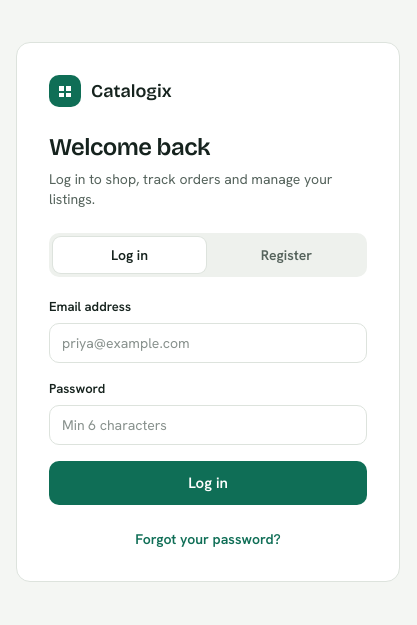
Scenario: Login › falls back to a generic error message when the server gives no message
Step 1. Type "bad@example.com" into the field labelled "Email address" → (208, 343), box [49,323,367,363]
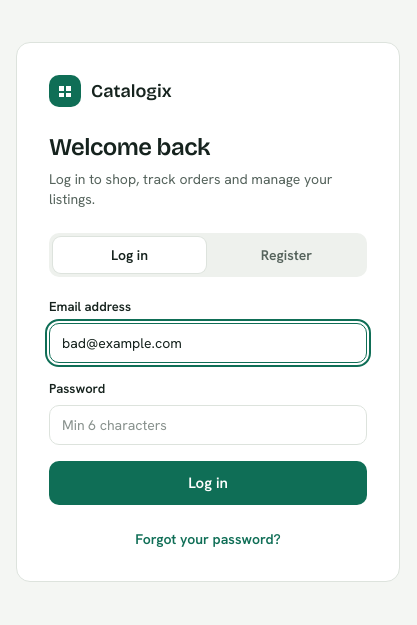
Step 2. Type "wrongpass" into the password field labelled "Password" → (208, 425), box [49,405,367,445]
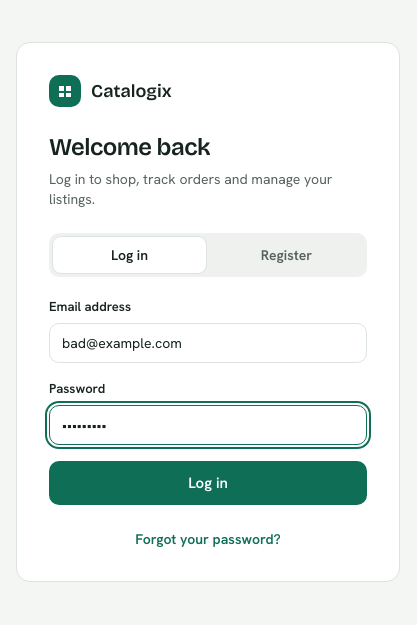
Step 3. Click the button "Log in" below "Email address" → (208, 483), box [49,461,367,505]
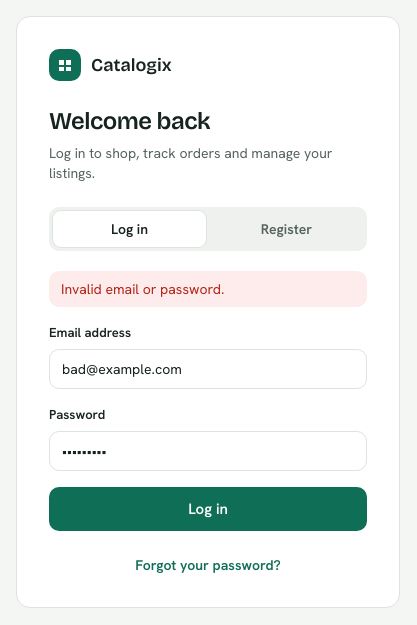
Now the text "Invalid email or password." is shown, box [49,271,367,307]
